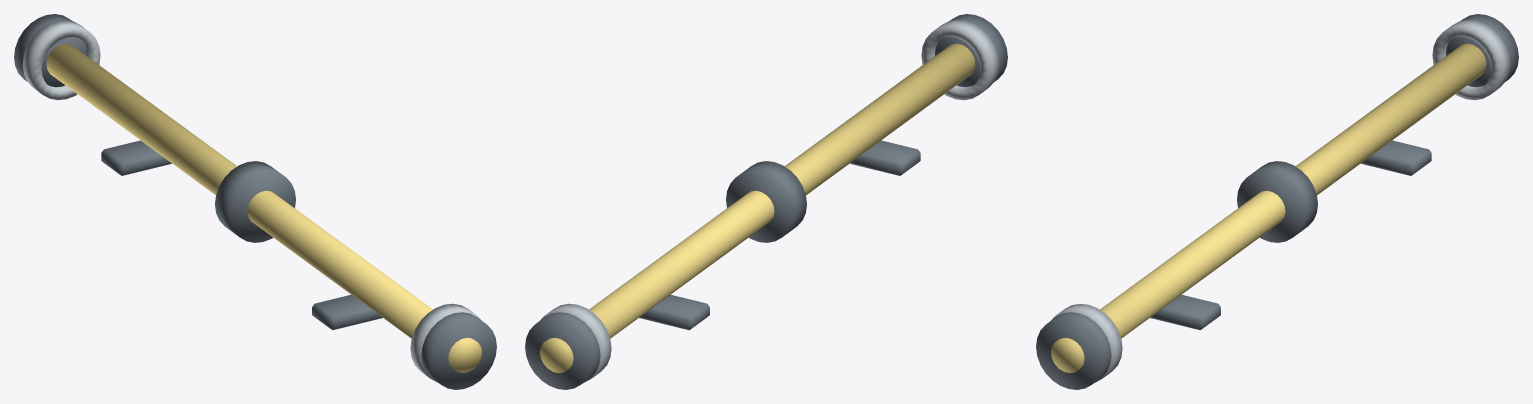
The model's file is power_bus_enhanced.glb.
3 renders of one model, left to right at view 1: azimuth 30°, elevation 25°; view 2: azimuth 150°, elevation 25°; view 3: azimuth 330°, elevation 25°, orthographic.
Visible parts, largest first — view 1: Conduit_yellow, Coupler_dark, Flange_steel, SupportBracket_dark; view 2: Conduit_yellow, Coupler_dark, Flange_steel, SupportBracket_dark; view 3: Conduit_yellow, Coupler_dark, Flange_steel, SupportBracket_dark.
Part boxes in pixels (left/top/right/bottom): Conduit_yellow: left=46, top=43, right=481, bottom=373; Coupler_dark: left=14, top=14, right=496, bottom=389; Flange_steel: left=22, top=20, right=481, bottom=382; SupportBracket_dark: left=101, top=140, right=382, bottom=330; Conduit_yellow: left=540, top=43, right=975, bottom=373; Coupler_dark: left=525, top=14, right=1007, bottom=389; Flange_steel: left=540, top=20, right=999, bottom=382; SupportBracket_dark: left=639, top=140, right=920, bottom=330; Conduit_yellow: left=1051, top=43, right=1486, bottom=373; Coupler_dark: left=1036, top=14, right=1518, bottom=389; Flange_steel: left=1051, top=20, right=1510, bottom=382; SupportBracket_dark: left=1150, top=140, right=1431, bottom=330.
Bounding box in the file's own units: 0.33 × 0.2805 × 3.
